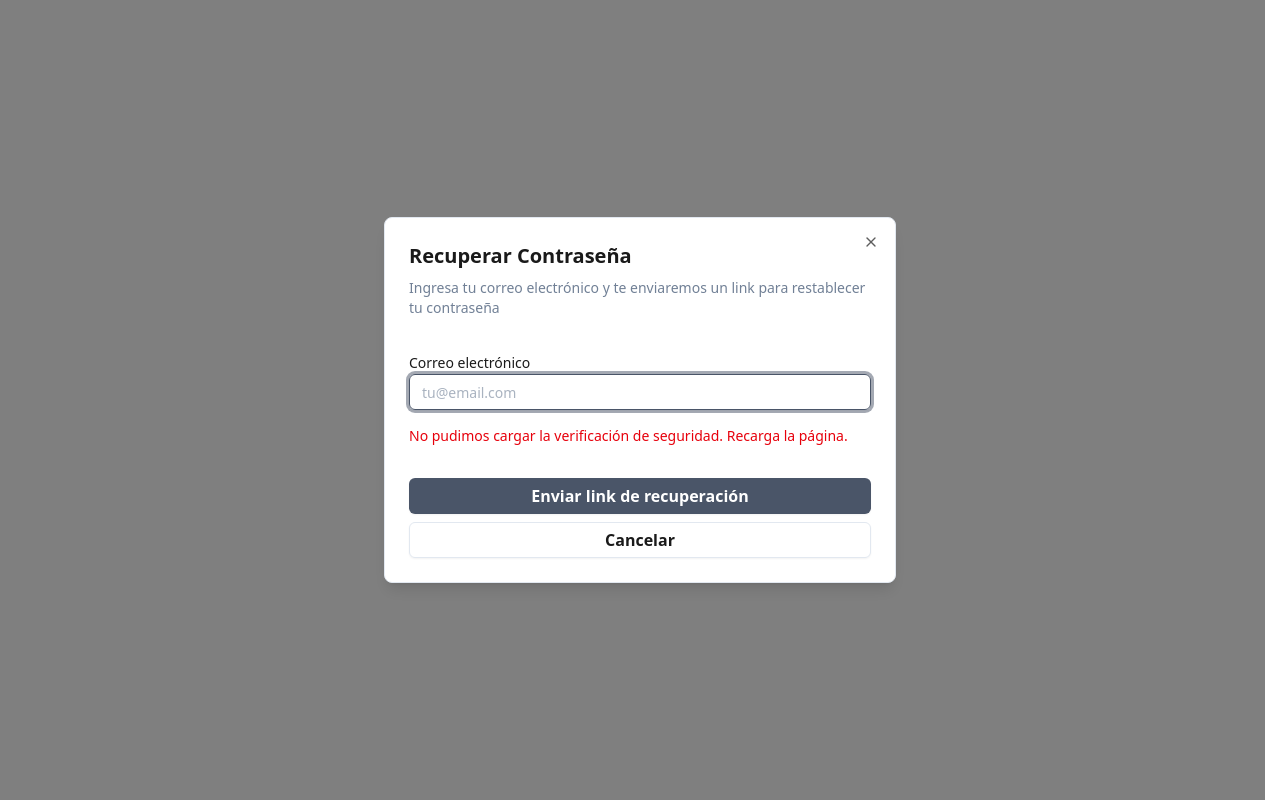
Scenario: PasswordRecoveryDialog › returns to an empty form when the owner sends it to another address
In the field labelled "Correo electrónico": (640, 392) x1=409 y1=374 x2=871 y2=410, type "duena@tienda.test"
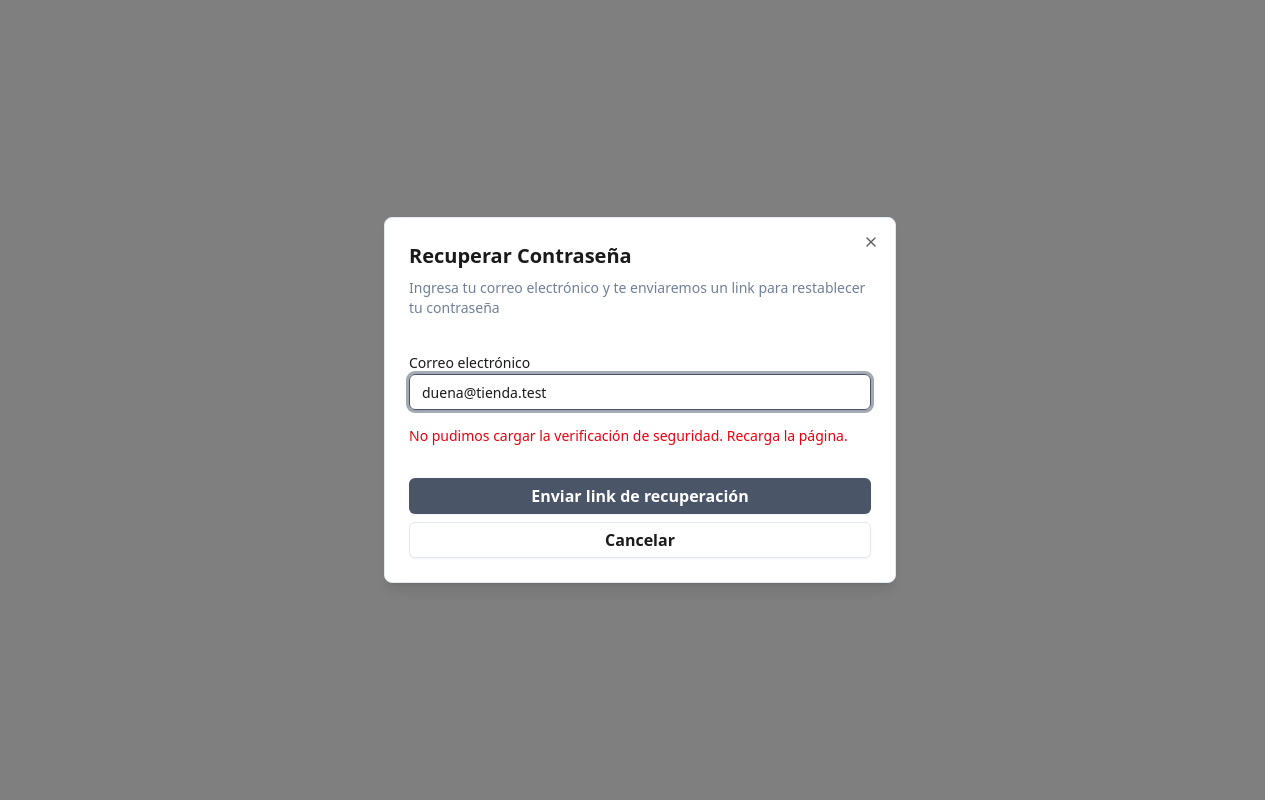
Click the button "Enviar link de recuperación": (640, 496) x1=409 y1=478 x2=871 y2=514
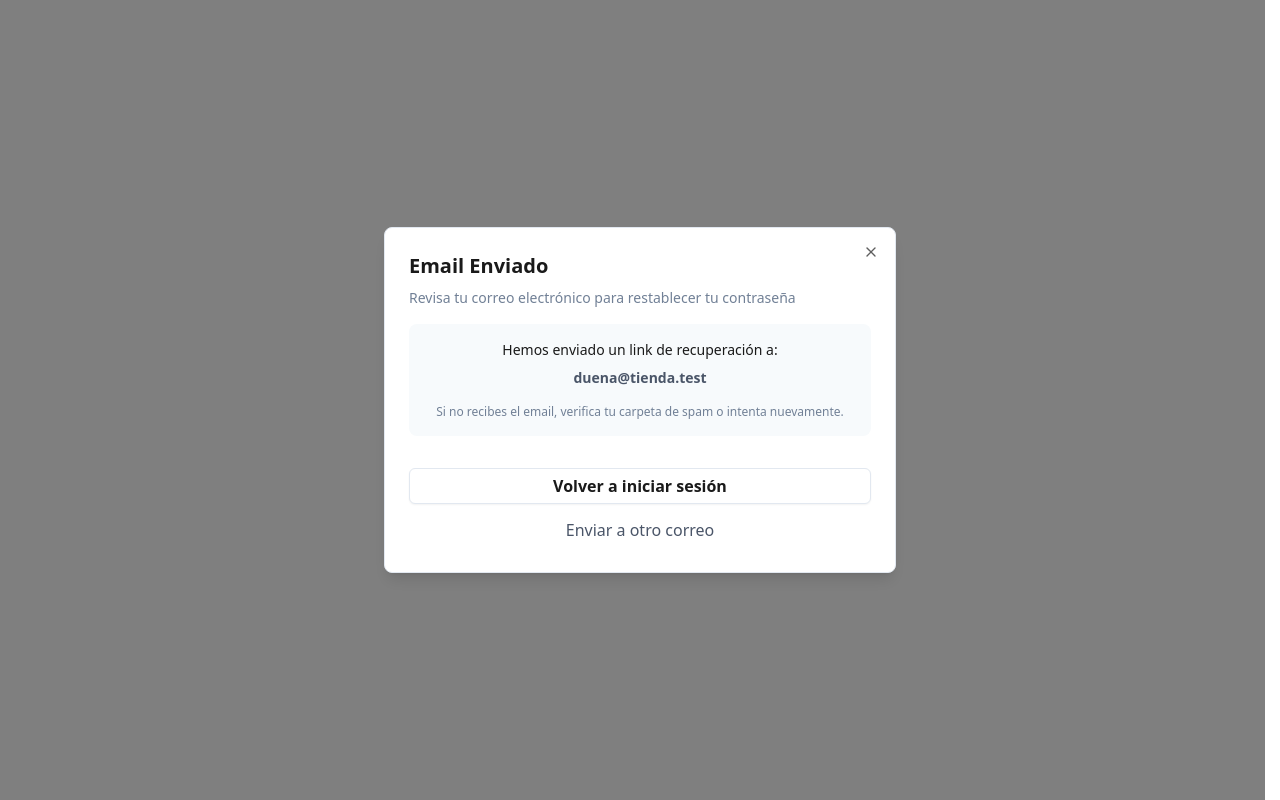
Check: the heading "Email Enviado" is shown, box x1=409 y1=252 x2=548 y2=279
Click the button "Enviar a otro correo": (640, 530) x1=409 y1=512 x2=871 y2=548
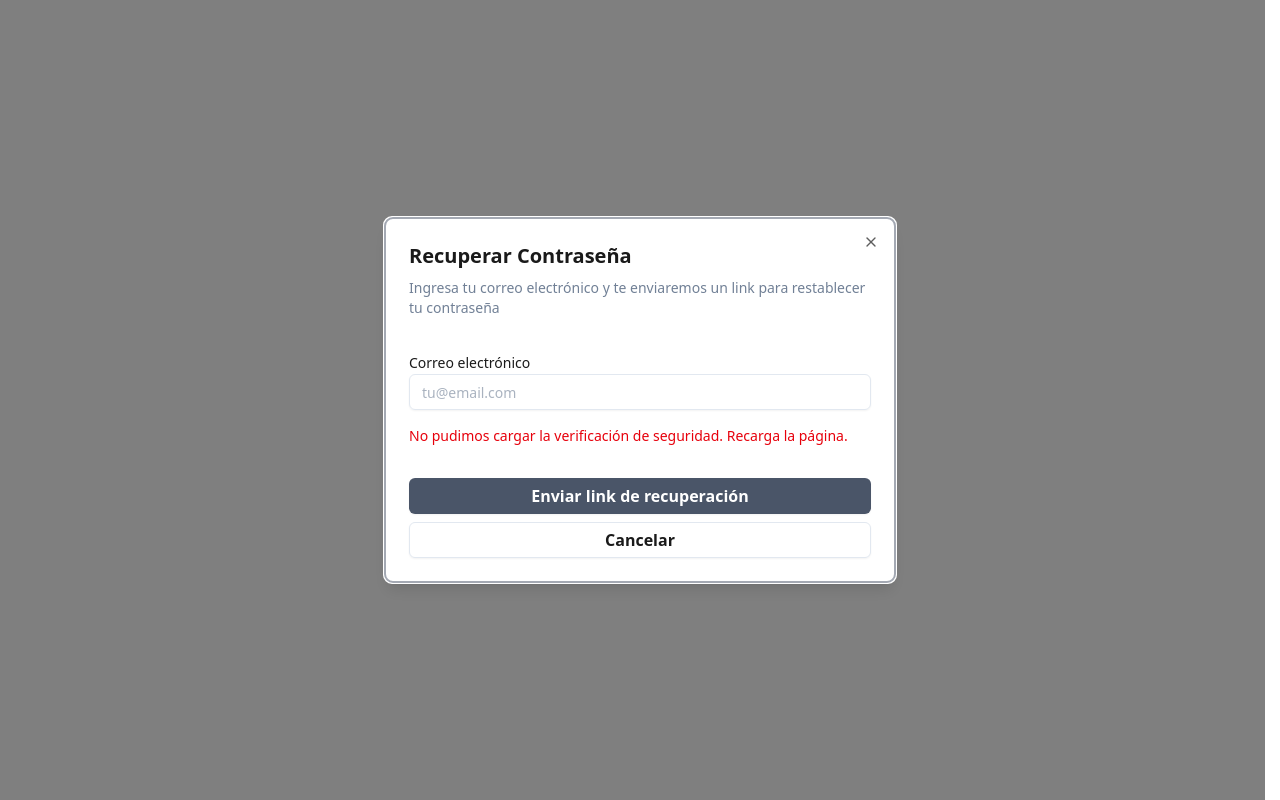
Check: the field labelled "Correo electrónico" is empty, box x1=409 y1=374 x2=871 y2=410
Check: the button "Enviar link de recuperación" is shown, box x1=409 y1=478 x2=871 y2=514
